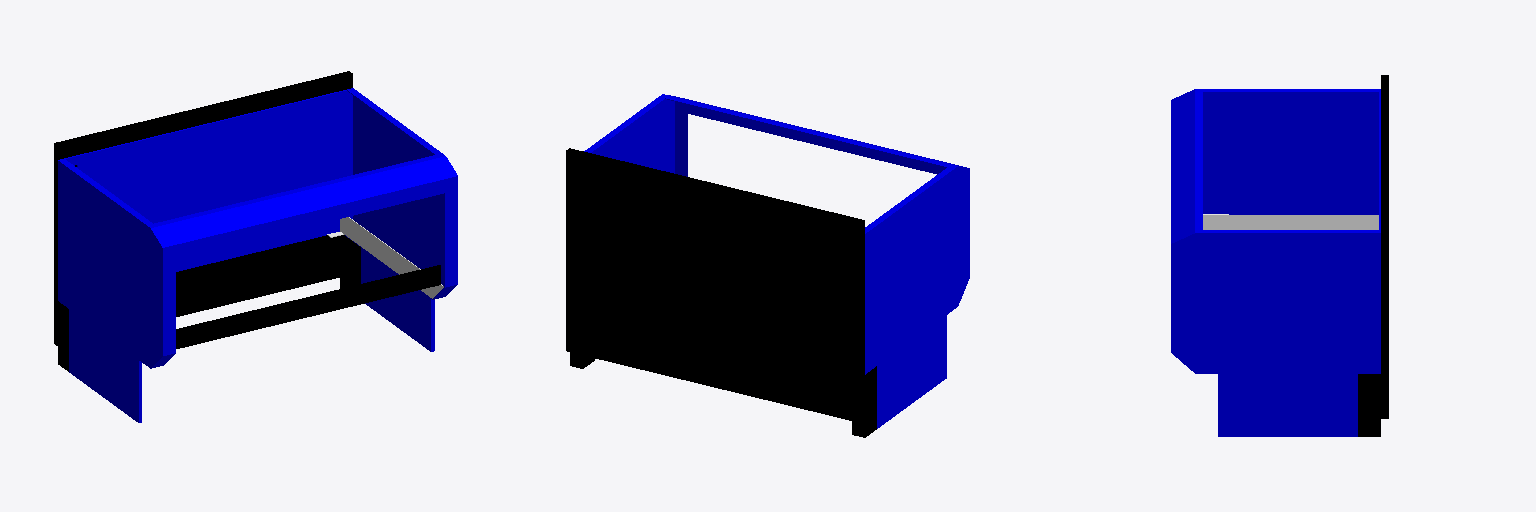
The model's file is lasercase.obj.
The picture shows the model from 3 angles: view 1: azimuth 30°, elevation 25°; view 2: azimuth 150°, elevation 25°; view 3: azimuth 270°, elevation 25°; orthographic projection.
Parts seen in each view (by area): view 1: object_2, object_1, object_6, object_7, object_8, object_3; view 2: object_1, object_2, object_7; view 3: object_2, object_8, object_1, object_4.
Boxes of the visible parts, x1=… form: object_2: x1=58, y1=88, x2=457, y2=368; object_1: x1=54, y1=71, x2=360, y2=371; object_6: x1=176, y1=265, x2=440, y2=348; object_7: x1=69, y1=309, x2=141, y2=422; object_8: x1=361, y1=248, x2=434, y2=351; object_3: x1=340, y1=217, x2=443, y2=298; object_1: x1=566, y1=148, x2=876, y2=437; object_2: x1=584, y1=94, x2=969, y2=374; object_7: x1=877, y1=315, x2=946, y2=428; object_2: x1=1171, y1=89, x2=1380, y2=373; object_8: x1=1218, y1=374, x2=1357, y2=436; object_1: x1=1358, y1=75, x2=1388, y2=436; object_4: x1=1203, y1=214, x2=1378, y2=229.
Size of the model in its own units: 44 by 31 by 28.13.